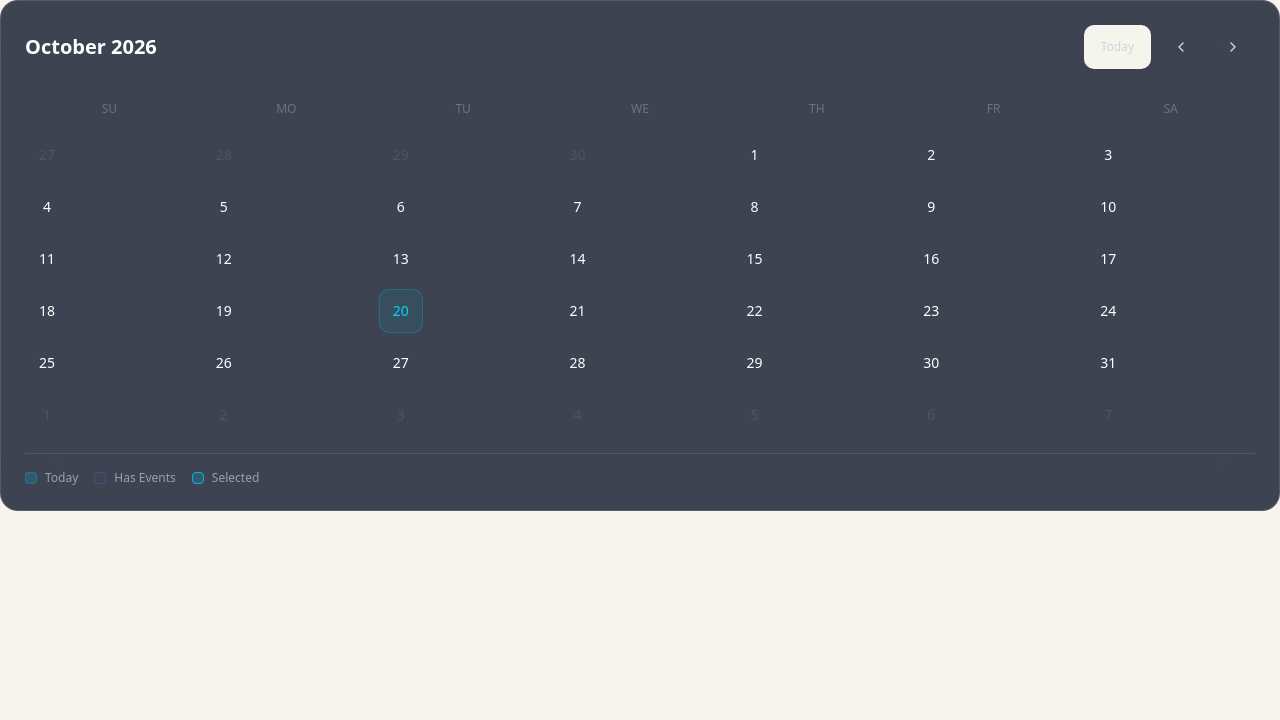
Test: EventCalendar › returns to today when Today button is clicked
// Navigate away first
Click the button named "Next month": (1233, 47) x1=1211 y1=25 x2=1255 y2=69
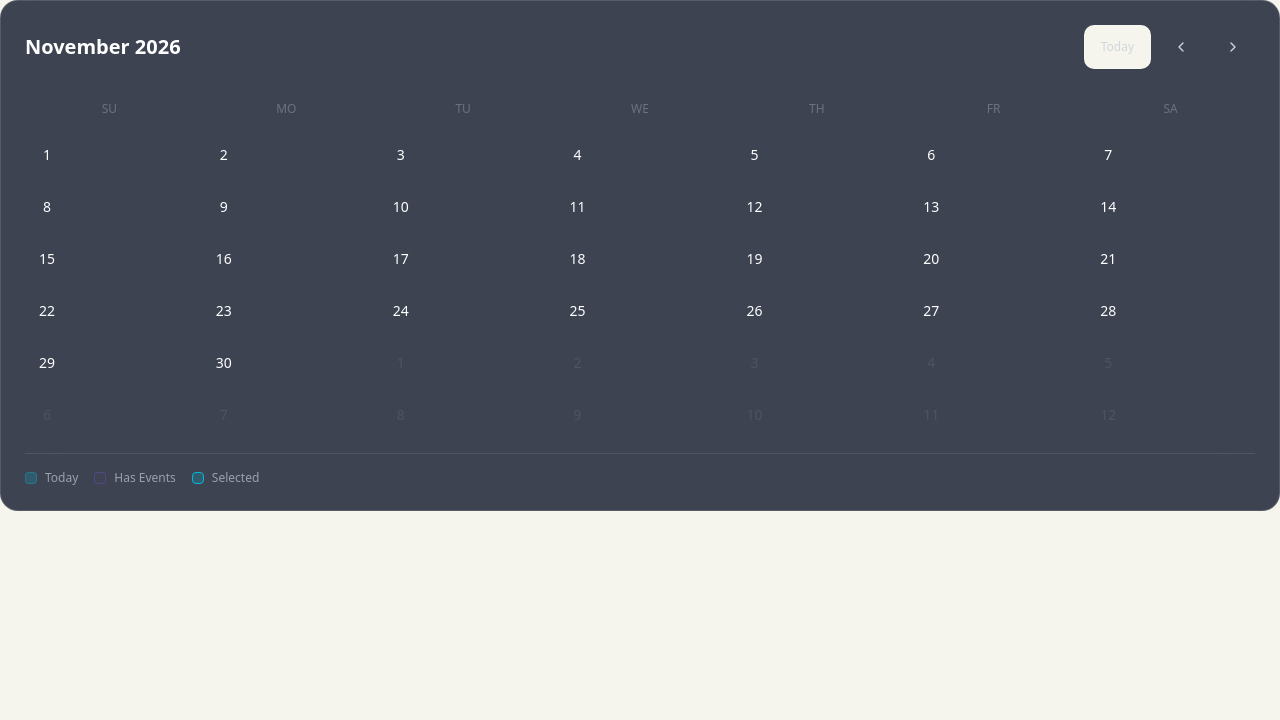
Click the button "Today": (1117, 47) x1=1084 y1=25 x2=1151 y2=69
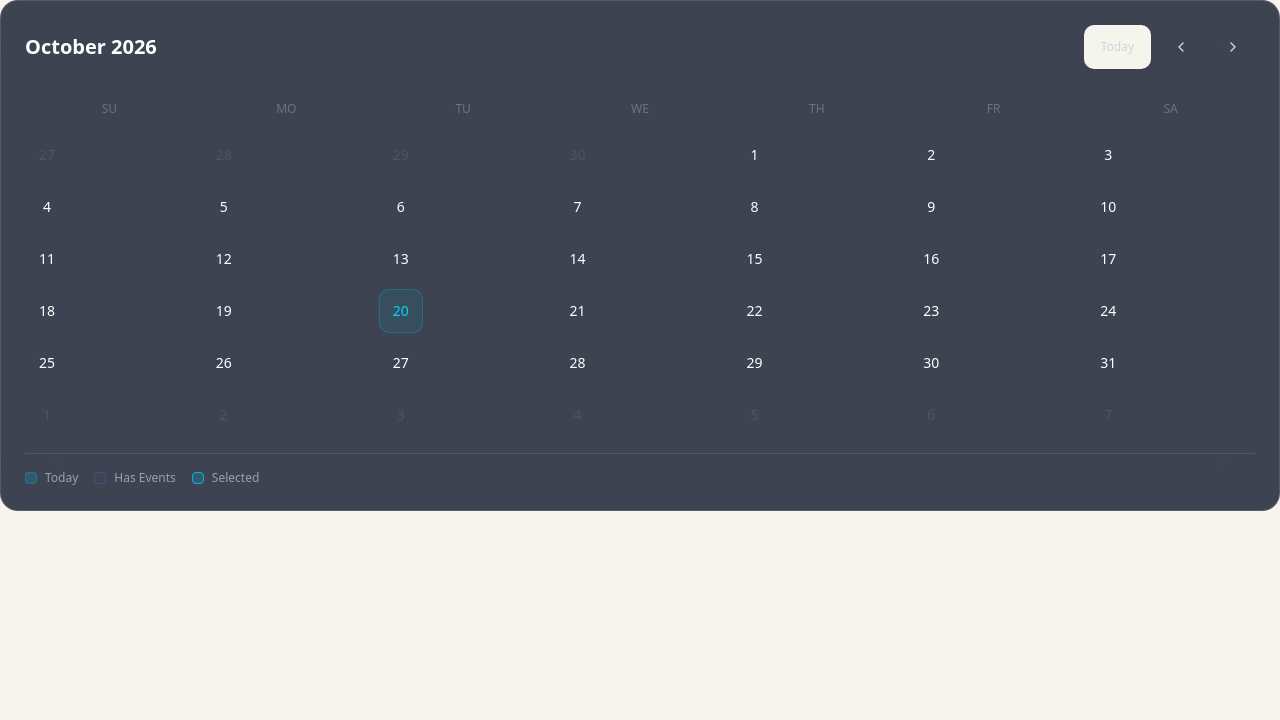
expect the heading "October 2026" is shown: met, box x1=25 y1=33 x2=157 y2=61
